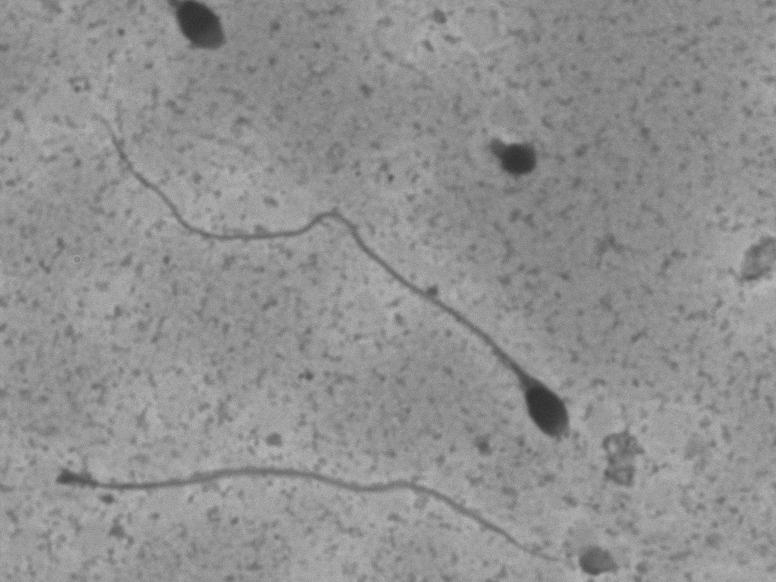Normal: (85, 96, 599, 453)
